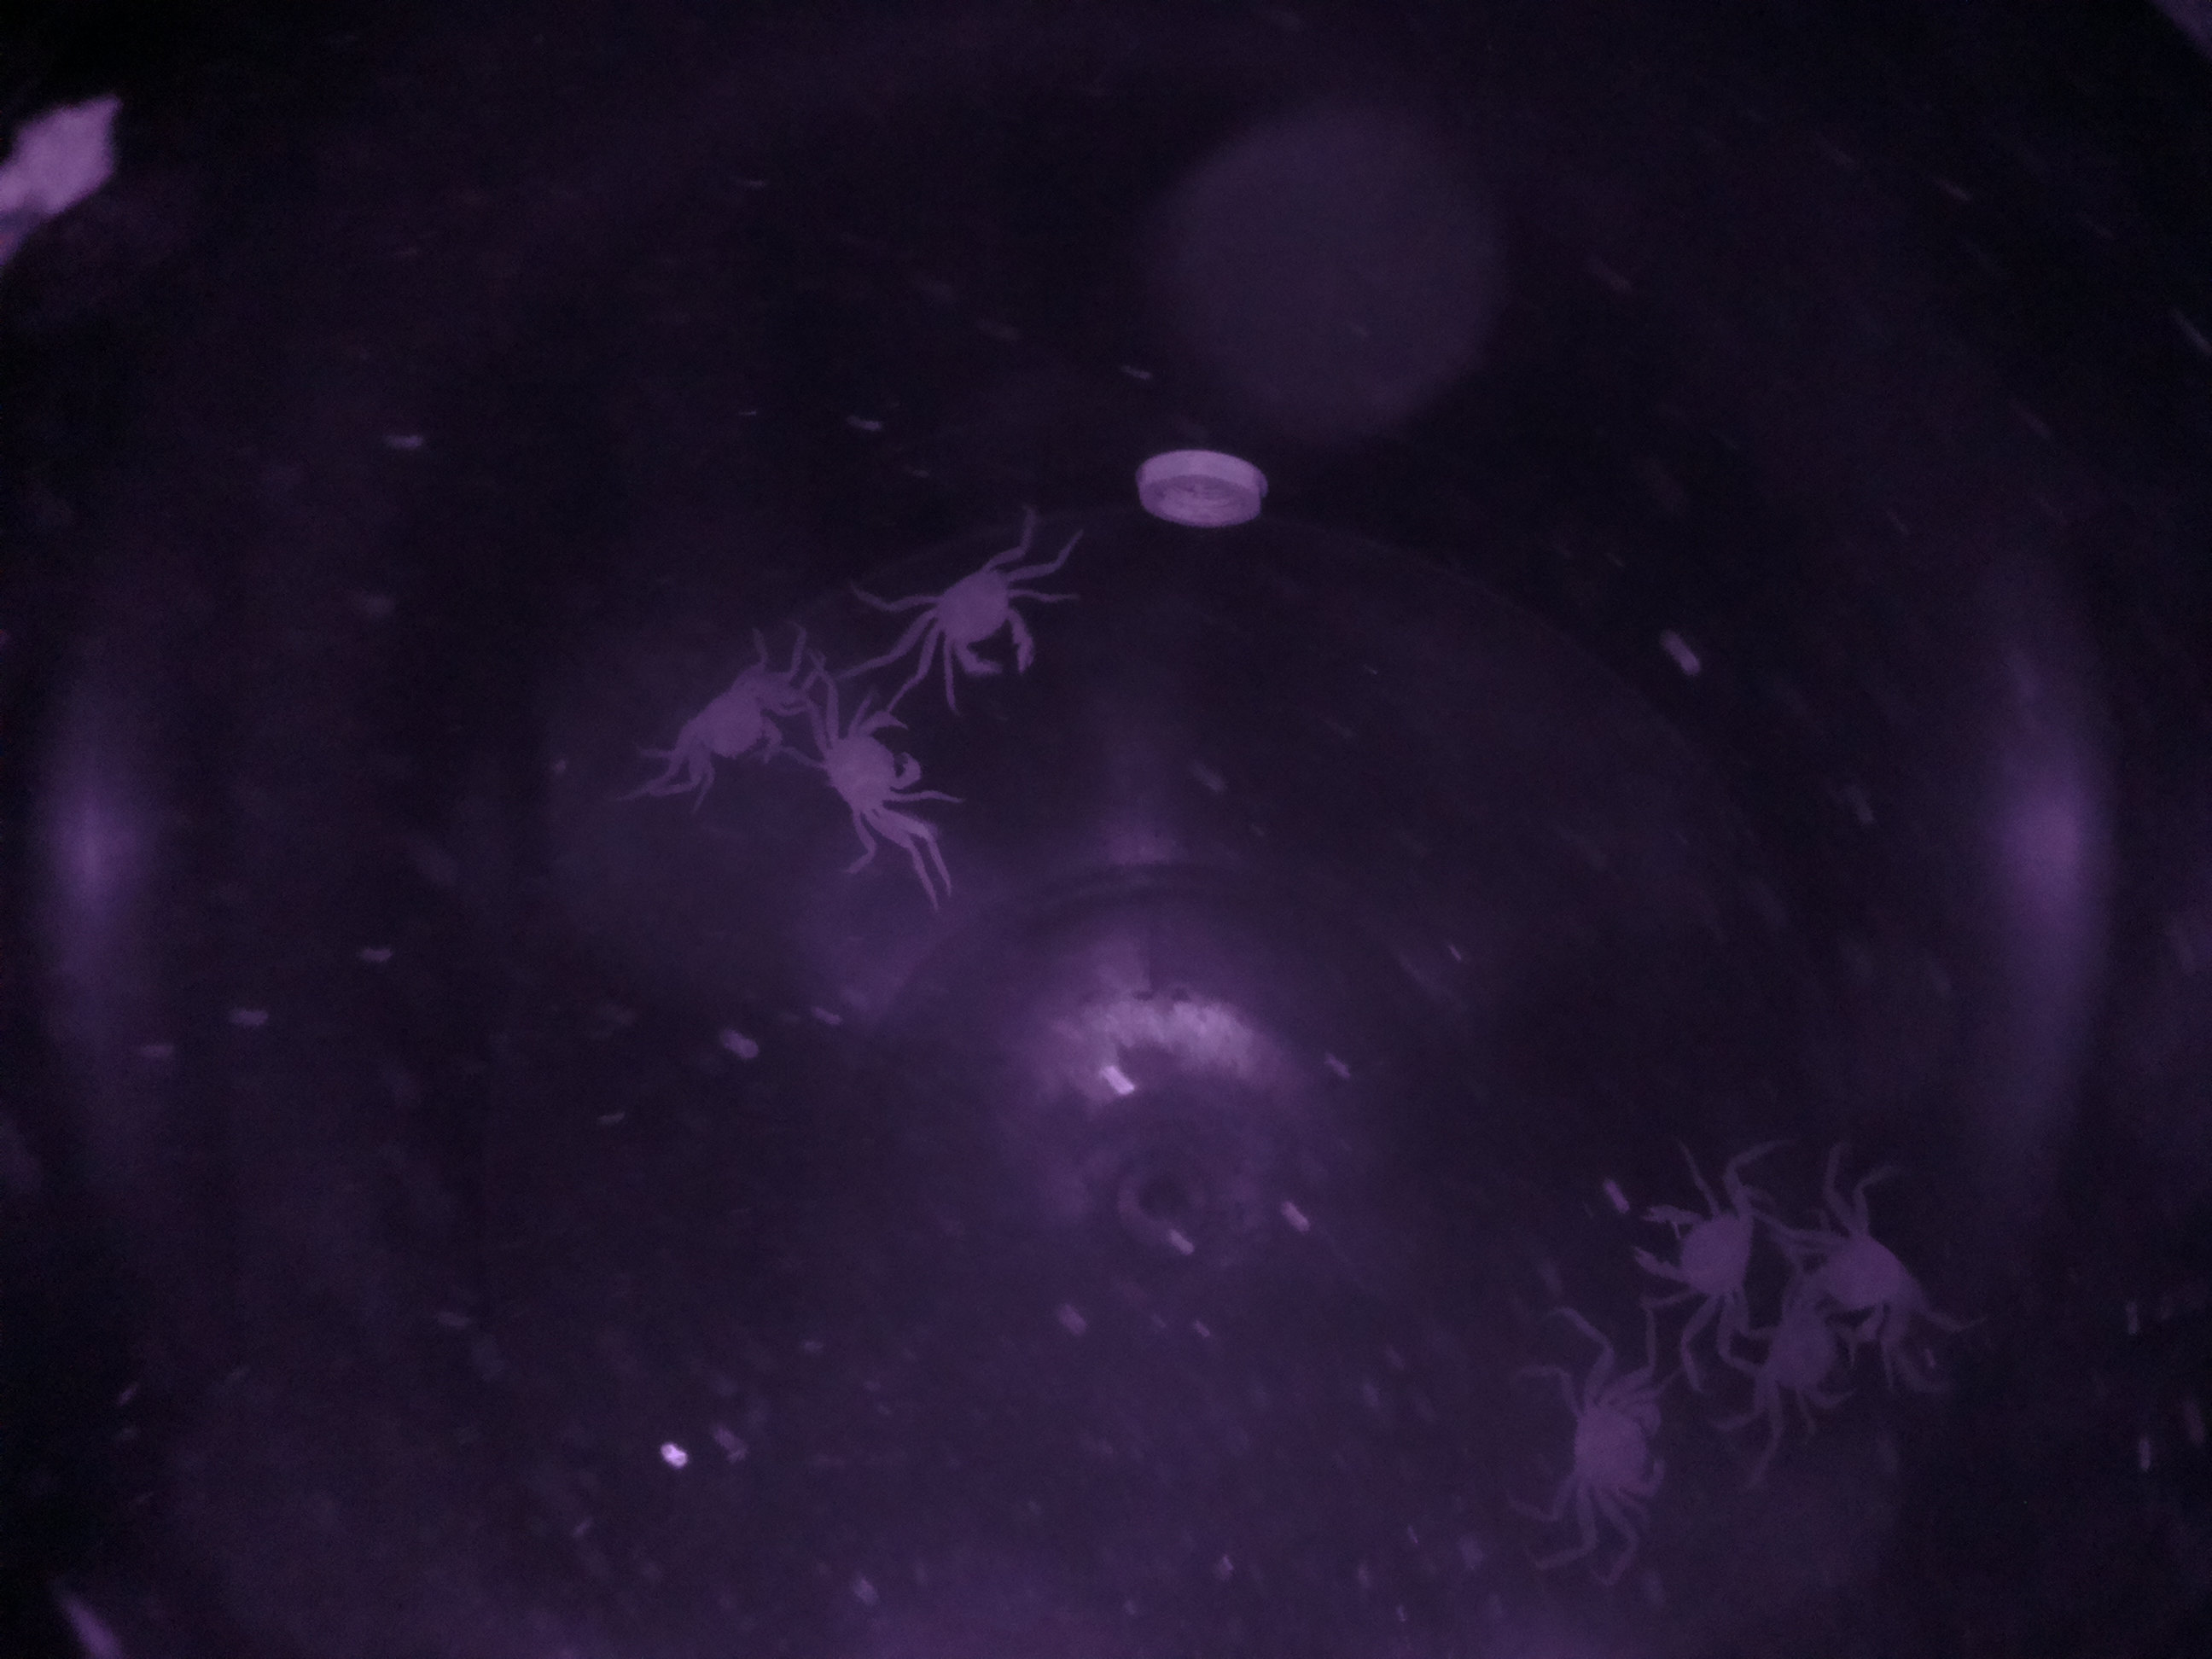Crab: (1562, 1338, 1677, 1546), (897, 538, 1043, 699), (1625, 1161, 1759, 1317), (803, 694, 928, 850)
